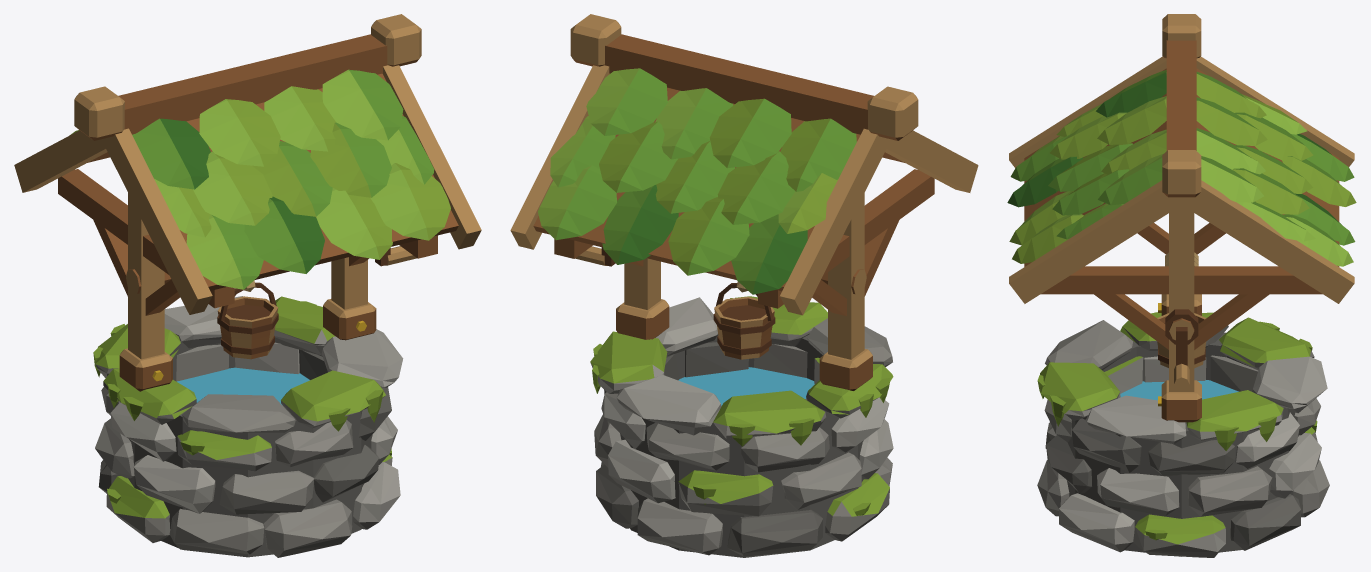
Rendered from wishing_well.glb.
3 views of the same model, side by side, from view 1: azimuth 30°, elevation 25°; view 2: azimuth 150°, elevation 25°; view 3: azimuth 270°, elevation 25° (orthographic). The views are drawn at different scales.
Visible parts, largest first — view 1: wishing_well; view 2: wishing_well; view 3: wishing_well.
Boxes of the visible parts, bbox=[...] form: wishing_well: bbox=[14, 14, 481, 557]; wishing_well: bbox=[510, 14, 978, 557]; wishing_well: bbox=[1007, 14, 1356, 557].
Size of the model in its own units: 1.58 by 2 by 1.52.
